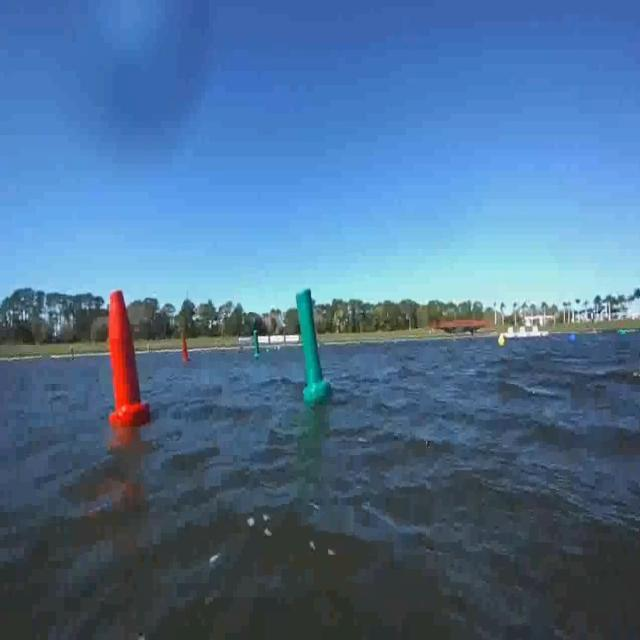blue-buoy: (569, 332, 577, 346)
green-column-buoy: (296, 287, 333, 401), (252, 330, 260, 360)
red-column-buoy: (108, 290, 152, 427), (184, 338, 192, 363)
yellow-buoy: (498, 335, 506, 350)
